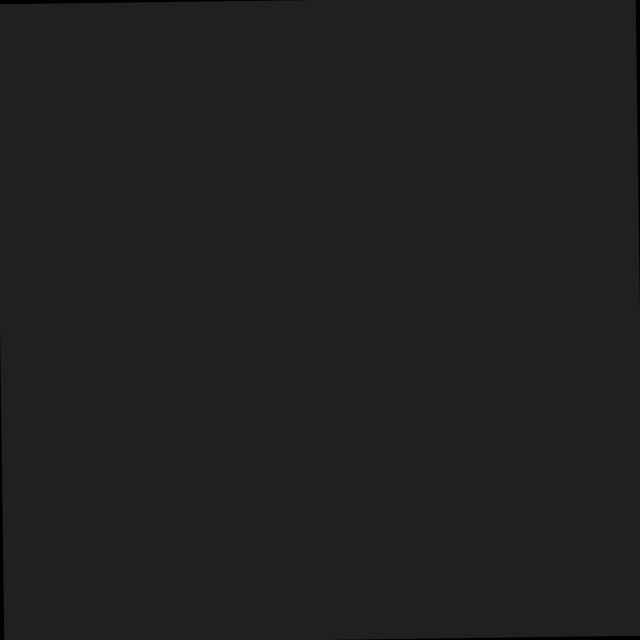95C: (149, 356, 222, 419)
bleach: (206, 364, 259, 420)
drip_dry: (337, 374, 398, 435)
drip_dry_in_shade: (383, 378, 447, 441)
dry_clean: (249, 370, 303, 423)
dry_clean_petrol_only: (293, 367, 351, 430)
